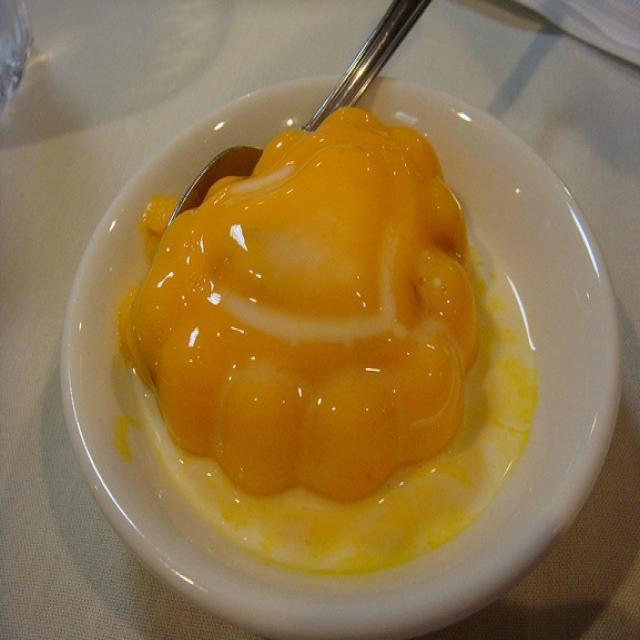蛋糕甜品: (66, 66, 594, 602)
